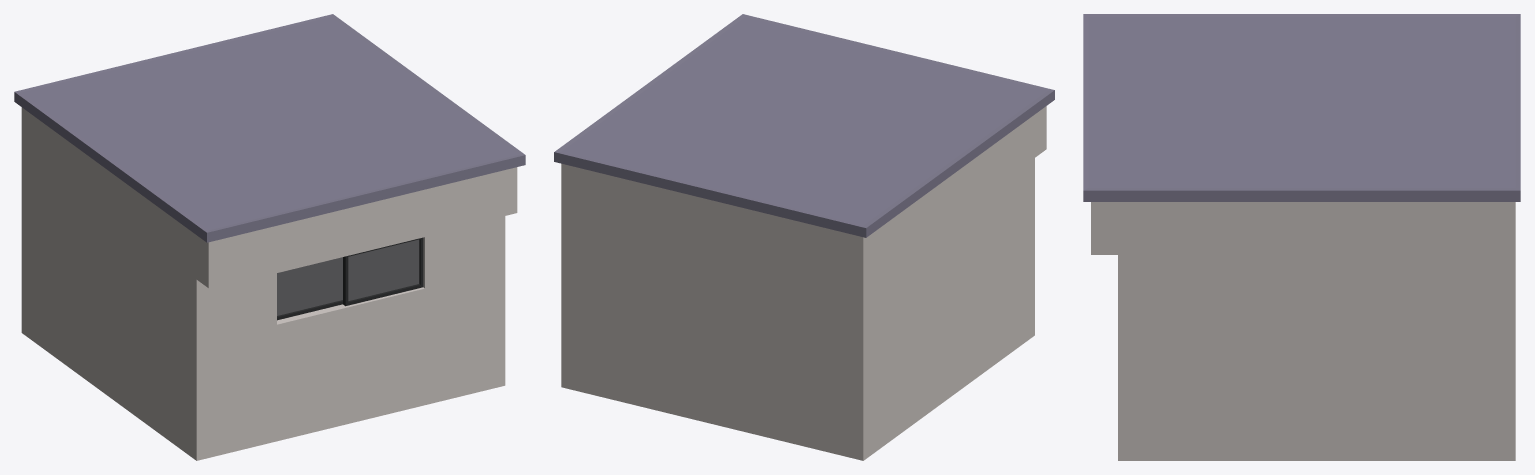
The model's file is house4.fbx.
3 renders of one model, left to right at view 1: azimuth 30°, elevation 25°; view 2: azimuth 150°, elevation 25°; view 3: azimuth 270°, elevation 25°, orthographic. The views are drawn at different scales.
Visible parts, largest first — view 1: polySurface53, polySurface52, polySurface54, polySurface56; view 2: polySurface53, polySurface52; view 3: polySurface53, polySurface52.
Boxes of the visible parts, box(x1,y1,x2,y2) form: polySurface53: box(21, 107, 517, 460); polySurface52: box(14, 14, 525, 242); polySurface54: box(277, 239, 419, 315); polySurface56: box(277, 237, 423, 320); polySurface53: box(561, 106, 1046, 460); polySurface52: box(554, 14, 1054, 237); polySurface53: box(1091, 202, 1515, 460); polySurface52: box(1083, 14, 1520, 201).
Bounding box in the file's own units: 39.44 × 28.45 × 41.3.
